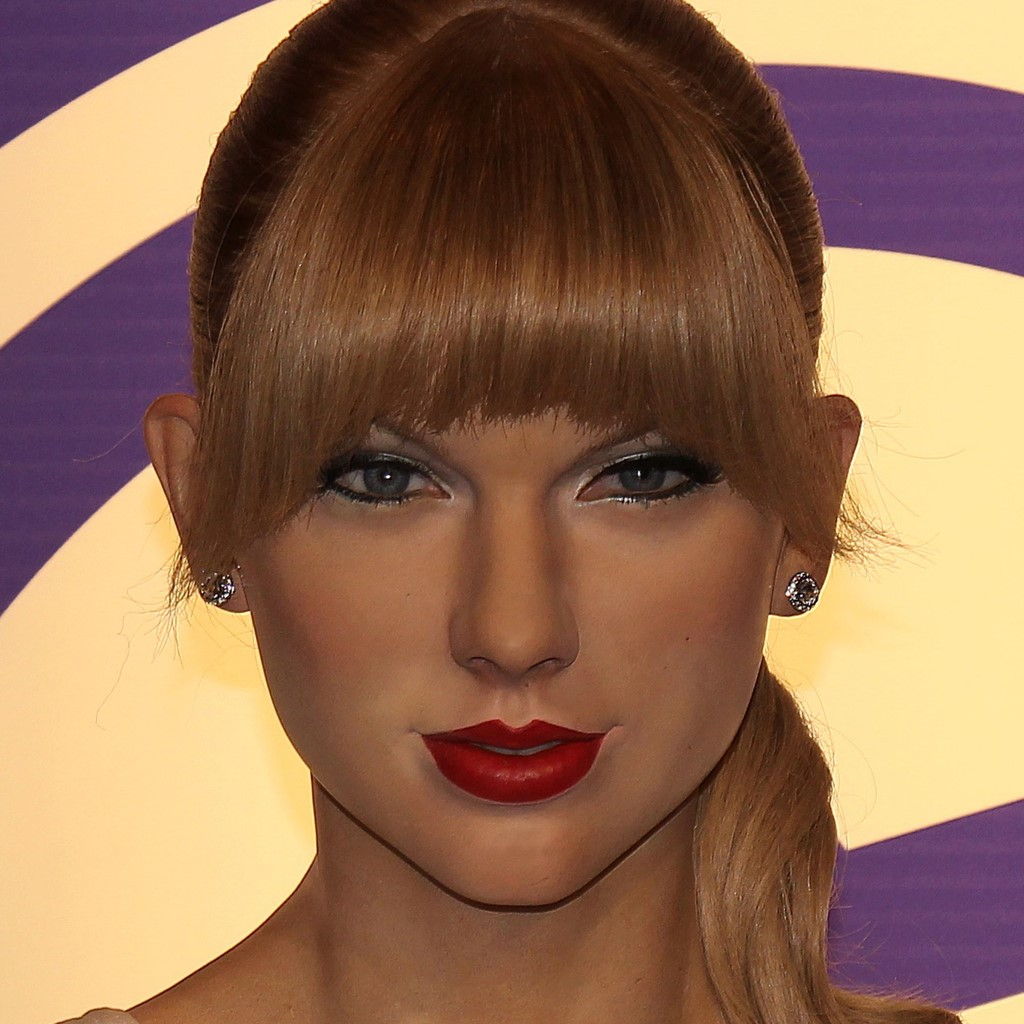sin_mascara: (220, 192, 813, 921)
